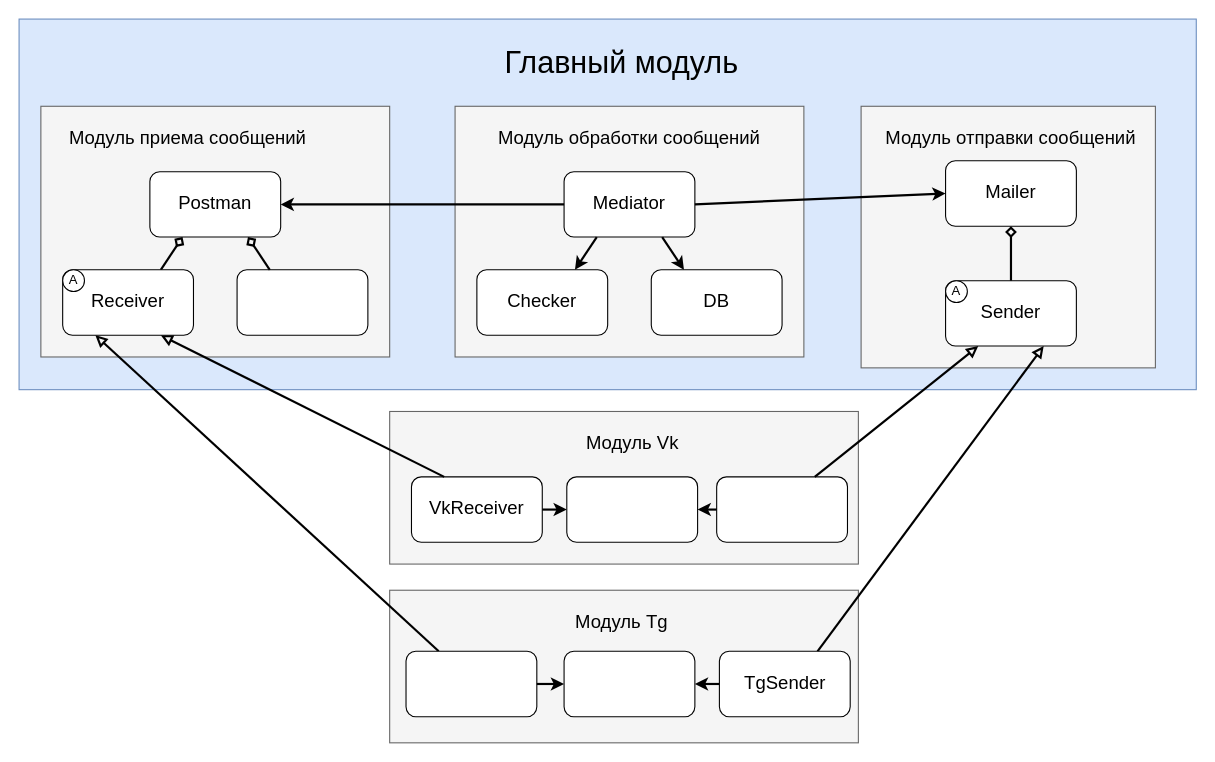
Some shapes in this 1215 by 762 pixel diagram are drawn without their labels. The box of each missing label's shape, as (x1, y1, x2, y2) in pixels:
Handler: (236, 269, 368, 335)
TgConnector: (563, 650, 695, 717)
TgReceiver: (405, 650, 537, 717)
VkConnector: (566, 476, 698, 542)
VkSender: (716, 476, 847, 542)
